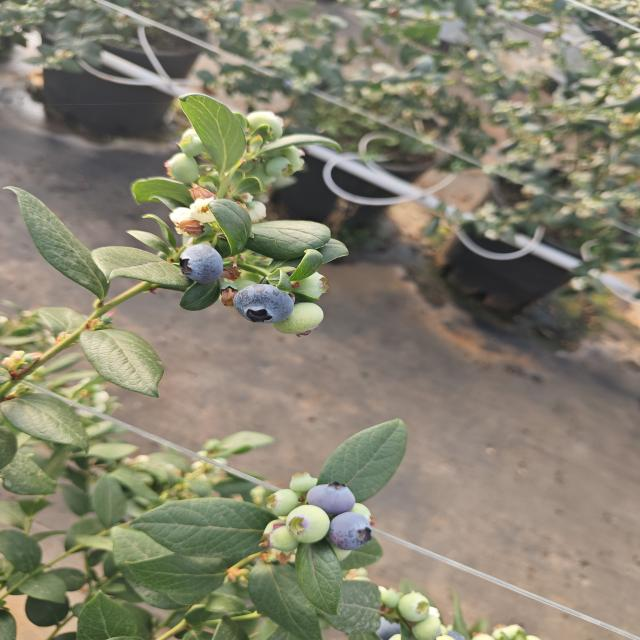ripe: (230, 282, 296, 326), (176, 242, 226, 286), (326, 510, 375, 552), (299, 474, 355, 509)
